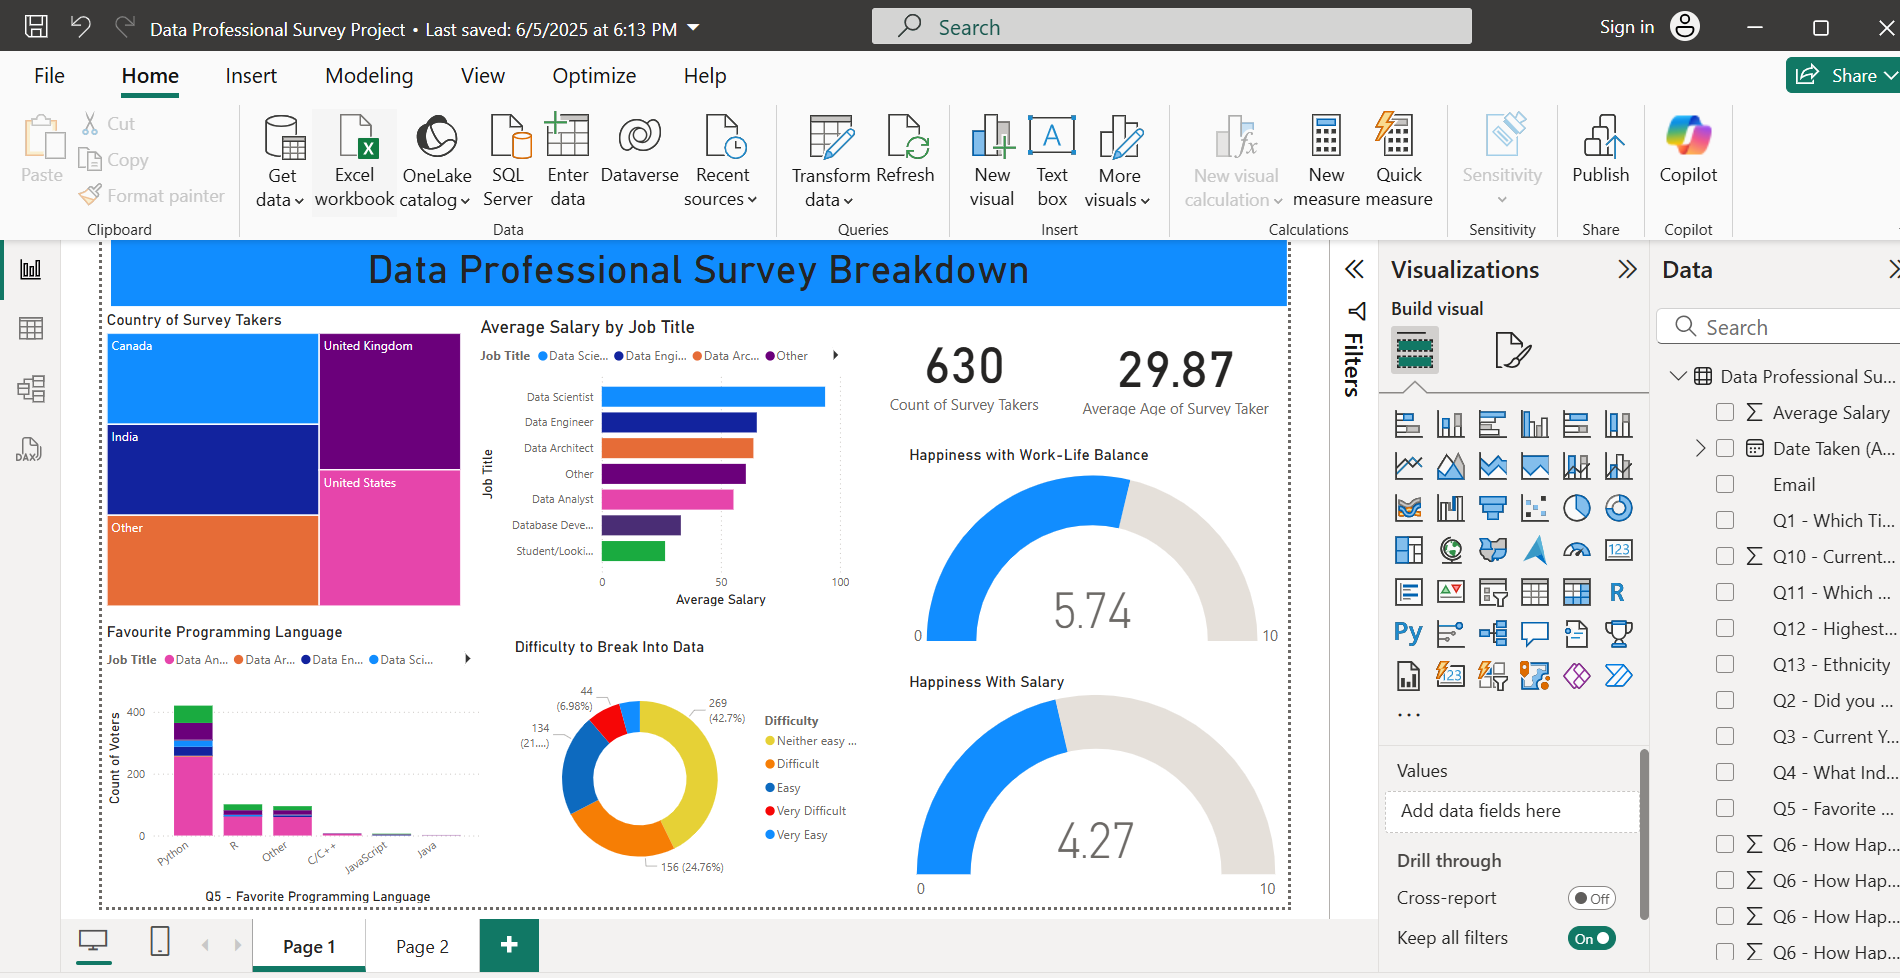

Layout of this report page (visuals, bound fields, positions):
{"tool":"powerbi","page":{"name":"Page 1","canvas":[1280,720],"ordinal":0},"visuals":[{"type":"textbox","box":[9.7,0,1269.5,71.2],"z":0},{"type":"card","fields":{"Values":["CountNonNull(Data Professional Survey.Unique ID)"]},"box":[822.6,82.6,215.4,111.7],"z":1000},{"type":"card","fields":{"Values":["Avg(Data Professional Survey.Q10 - Current Age)"]},"box":[1037.9,90.7,241.3,103.6],"z":2000},{"type":"barChart","title":"Average Salary by Job Title","fields":{"Category":["Data Professional Survey.Q1 - Which Title Best Fits your Current Role?.1"],"Y":["Avg(Data Professional Survey.Average Salary)"],"Series":["Data Professional Survey.Q1 - Which Title Best Fits your Current Role?.1"]},"box":[403.2,82.6,408,317.4],"z":3000},{"type":"columnChart","title":"Favourite Programming Language","fields":{"Category":["Data Professional Survey.Q5 - Favorite Programming Language.1"],"Y":["CountNonNull(Data Professional Survey.Unique ID)"],"Series":["Data Professional Survey.Q1 - Which Title Best Fits your Current Role?.1"]},"box":[0,412.9,414.5,307.7],"z":4000},{"type":"treemap","title":"Country of Survey Takers","fields":{"Group":["Data Professional Survey.Q11 - Which Country do you live in?.1"],"Values":["Count(Data Professional Survey.Q11 - Which Country do you live in?.1)"]},"box":[0,76.1,391.9,323.8],"z":5000},{"type":"gauge","title":"Happiness with Work-Life Balance","fields":{"Y":["Avg(Data Professional Survey.Q6 - How Happy are you in your Current Position with the following? (Work/Life Balance))"],"MinValue":["Min(Data Professional Survey.Q6 - How Happy are you in your Current Position with the following? (Work/Life Balance))1"],"MaxValue":["Max(Data Professional Survey.Q6 - How Happy are you in your Current Position with the following? (Work/Life Balance))2"]},"box":[866.3,221.8,412.9,228.3],"z":6000},{"type":"gauge","title":"Happiness With Salary","fields":{"Y":["Avg(Data Professional Survey.Q6 - How Happy are you in your Current Position with the following? (Salary))"],"MinValue":["Min(Data Professional Survey.Q6 - How Happy are you in your Current Position with the following? (Salary))1"],"MaxValue":["Max(Data Professional Survey.Q6 - How Happy are you in your Current Position with the following? (Salary))2"]},"box":[866.3,466.3,412.9,254.2],"z":7000},{"type":"donutChart","title":"Difficulty to Break Into Data","fields":{"Category":["Data Professional Survey.Q7 - How difficult was it for you to break into Data?"],"Y":["CountNonNull(Data Professional Survey.Q7 - How difficult was it for you to break into Data?)"]},"box":[440.4,429.1,396.7,285],"z":8000}]}

Visuals, with their boxes on the page's 1280x720 design canvas (x1, y1, x2, y2). These are canvas units, not pixel positions in the 1900x978 screenshot, which may show the page scaled, cropped or inside an application window:
textbox: bbox=(10, 0, 1279, 71)
card - CountNonNull(Data Professional Survey.Unique ID): bbox=(823, 83, 1038, 194)
card - Avg(Data Professional Survey.Q10 - Current Age): bbox=(1038, 91, 1279, 194)
"Average Salary by Job Title" barChart: bbox=(403, 83, 811, 400)
"Favourite Programming Language" columnChart: bbox=(0, 413, 414, 721)
"Country of Survey Takers" treemap: bbox=(0, 76, 392, 400)
"Happiness with Work-Life Balance" gauge: bbox=(866, 222, 1279, 450)
"Happiness With Salary" gauge: bbox=(866, 466, 1279, 720)
"Difficulty to Break Into Data" donutChart: bbox=(440, 429, 837, 714)
